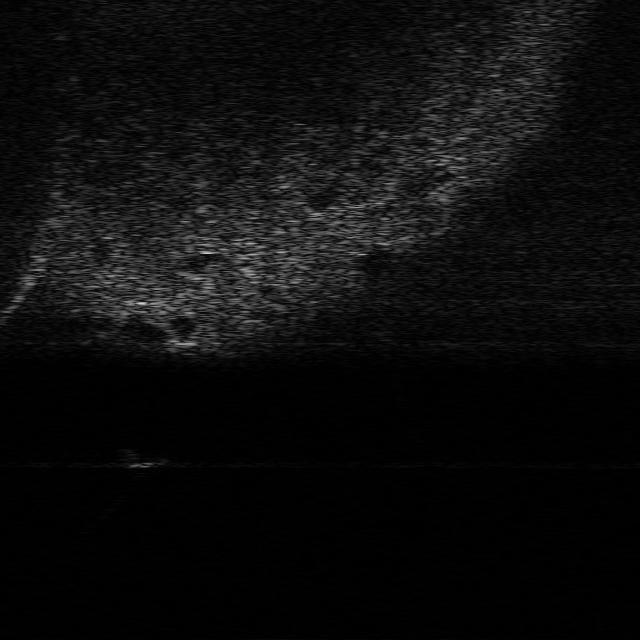cube: (116, 444, 166, 472)
